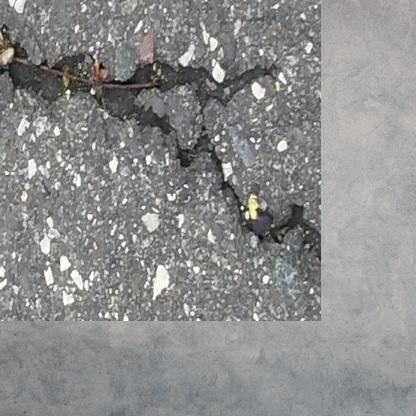Cracks: (0, 20, 297, 246)
